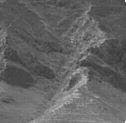Target: (66, 34, 77, 43)
